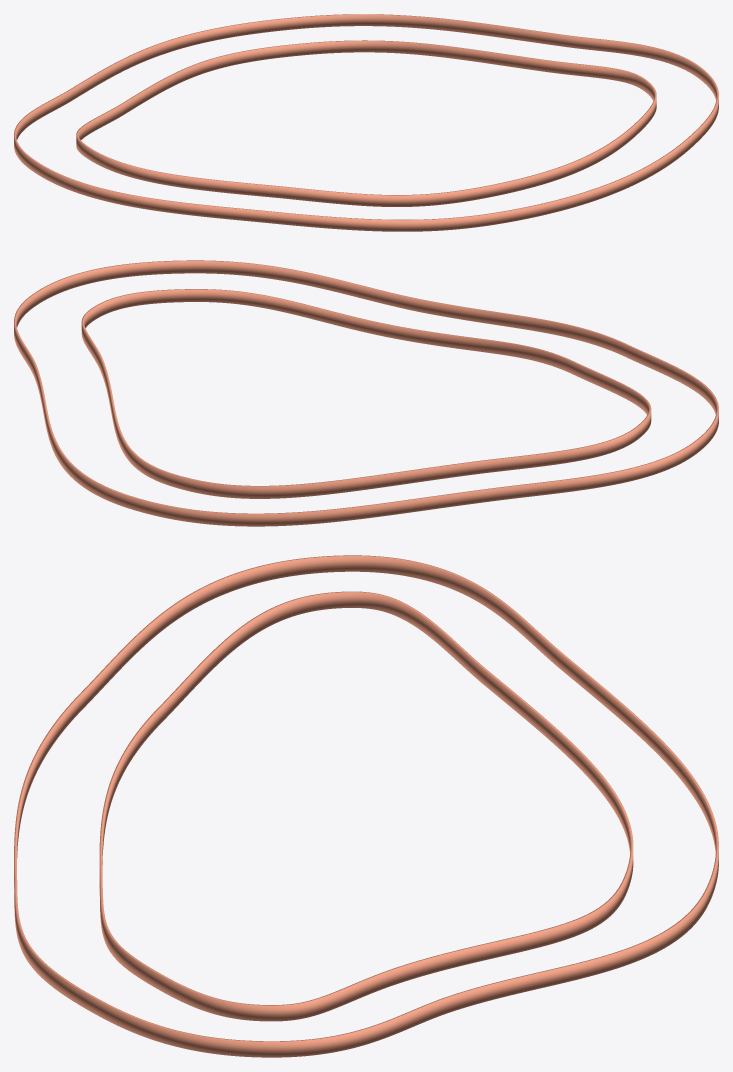
3 renders of one model, top to bottom at view 1: azimuth 30°, elevation 25°; view 2: azimuth 150°, elevation 25°; view 3: azimuth 270°, elevation 25°, orthographic. The views are drawn at different scales.
Parts seen in each view (by area): view 1: EXPORTED_GEN_OuterWall, EXPORTED_GEN_InnerWall; view 2: EXPORTED_GEN_OuterWall, EXPORTED_GEN_InnerWall; view 3: EXPORTED_GEN_OuterWall, EXPORTED_GEN_InnerWall.
Boxes of the visible parts, box(x1,y1,x2,y2) form: EXPORTED_GEN_OuterWall: box(14, 14, 718, 231); EXPORTED_GEN_InnerWall: box(76, 40, 656, 206); EXPORTED_GEN_OuterWall: box(14, 260, 718, 526); EXPORTED_GEN_InnerWall: box(81, 289, 651, 498); EXPORTED_GEN_OuterWall: box(14, 555, 718, 1057); EXPORTED_GEN_InnerWall: box(99, 591, 633, 1021).
Size of what is drawn, in the model's own units: 126 by 11.65 by 87.35.
